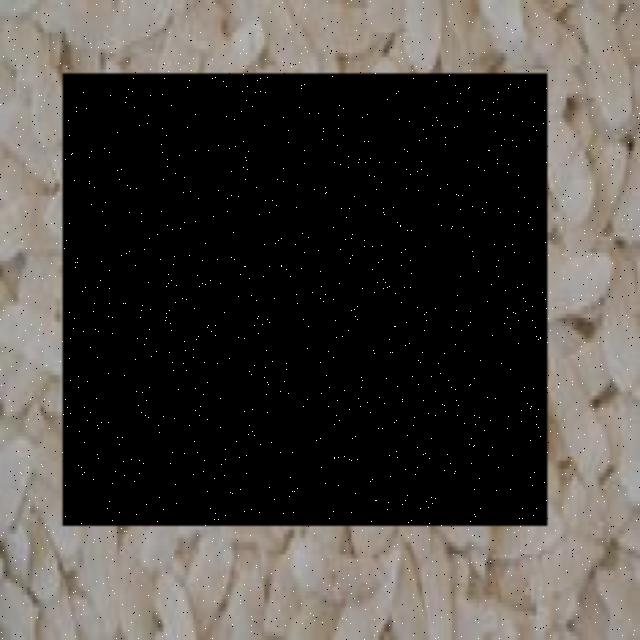Beaten_Rice: (63, 77, 548, 529)
